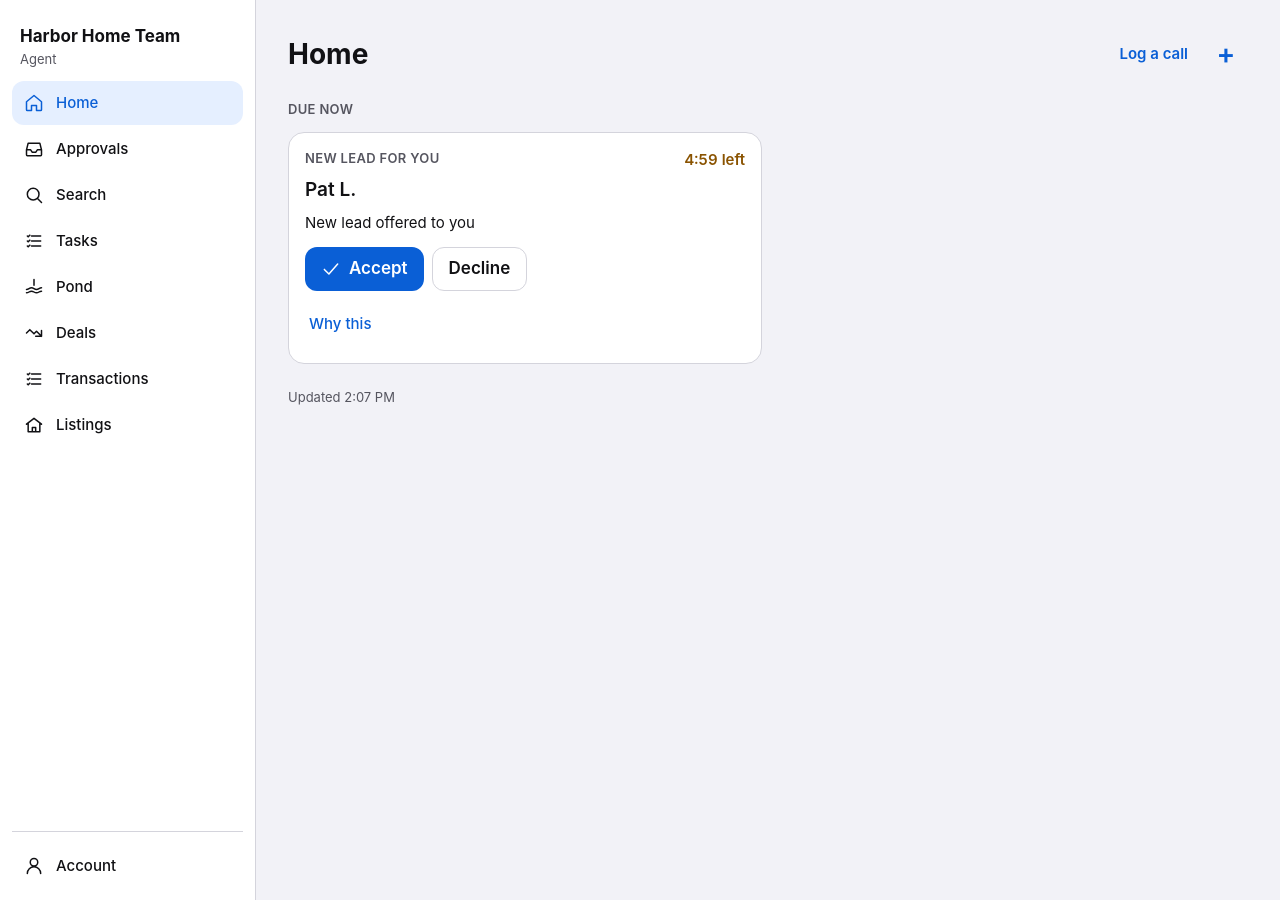
Scenario: Priority Feed › accepting a lead offer is 1 tap from the feed card and sends one command with a command id
Click the button "Accept" at {"x": 364, "y": 268}, box 305,246 -> 424,290
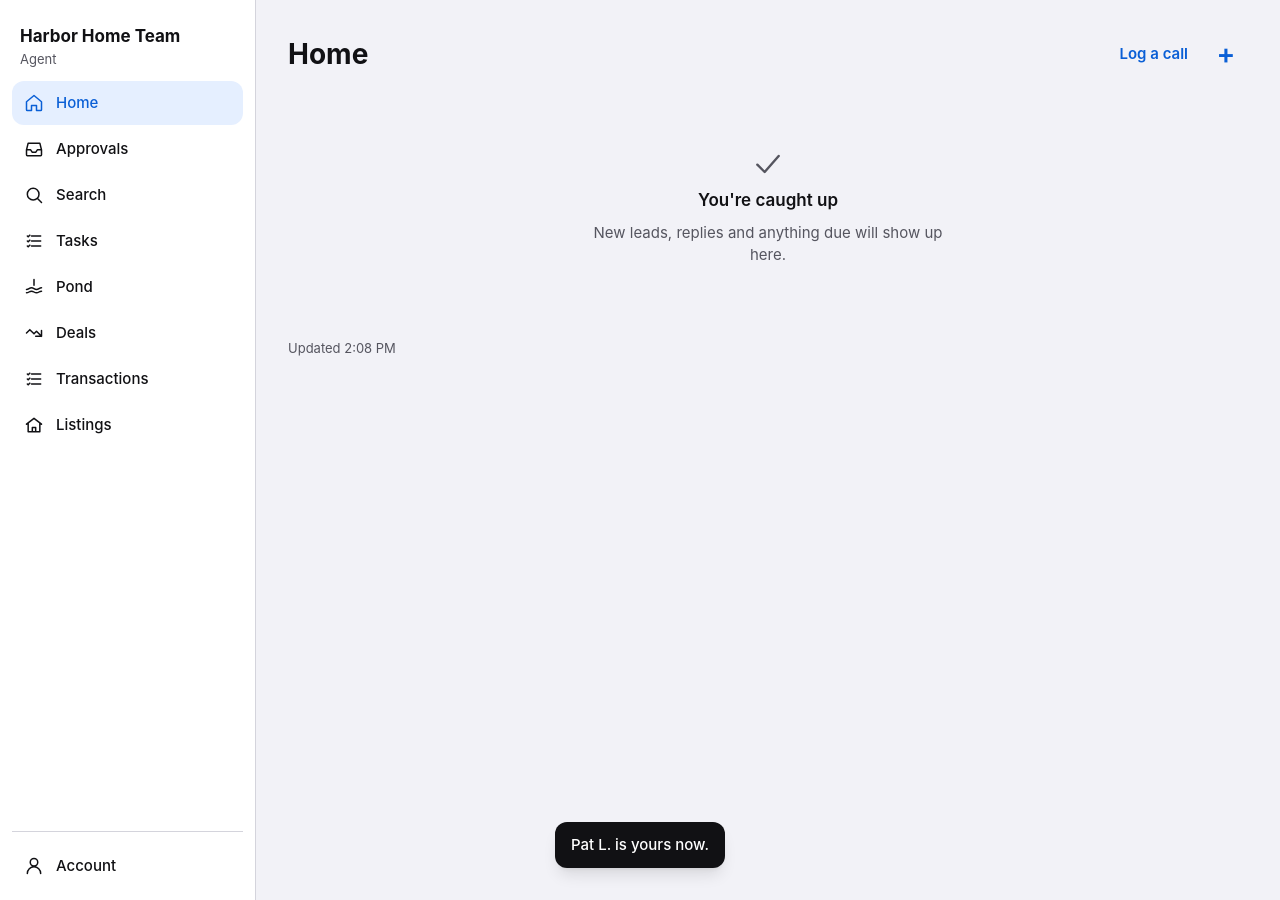
Expected: the text "Pat L. is yours now." is shown, 555,822 -> 725,868
Expected: the button "Accept" is gone
